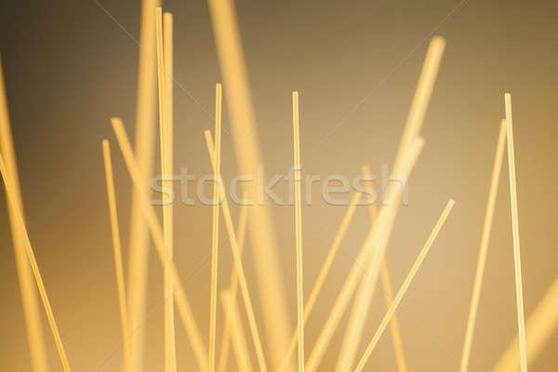spaghetti: (75, 6, 461, 372)
